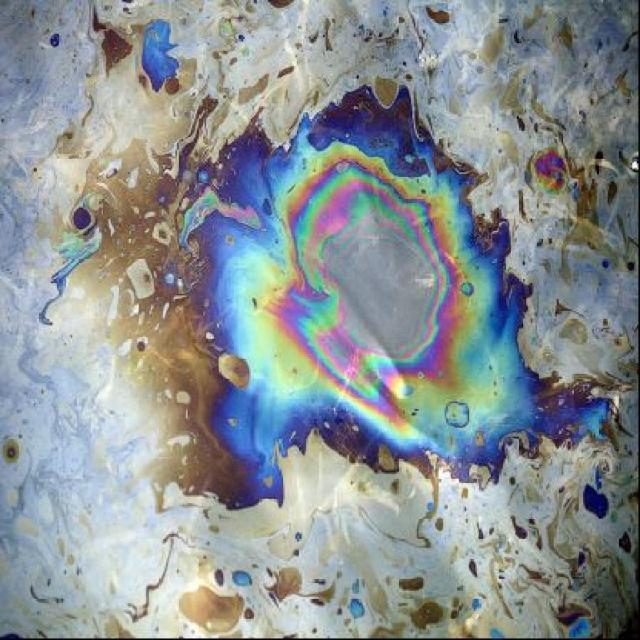rainbow: (180, 86, 608, 506)
